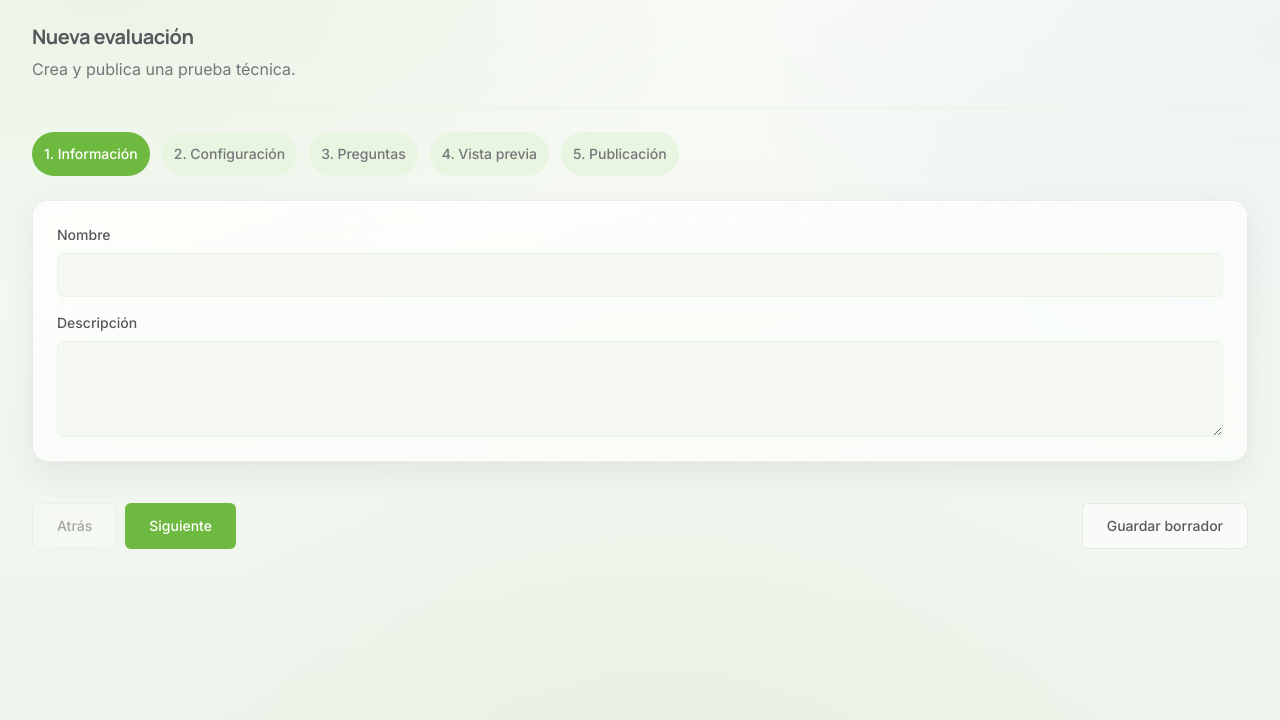
Scenario: PruebasEvaluationEditor UI › blocks next on empty info and saves a draft after filling required fields
The width and height of the screenshot is (1280, 720).
Check: the heading "Nueva evaluación" is shown, box [32,23,194,50]
Click the button "Siguiente".
click(181, 526)  # box [125,503,236,549]
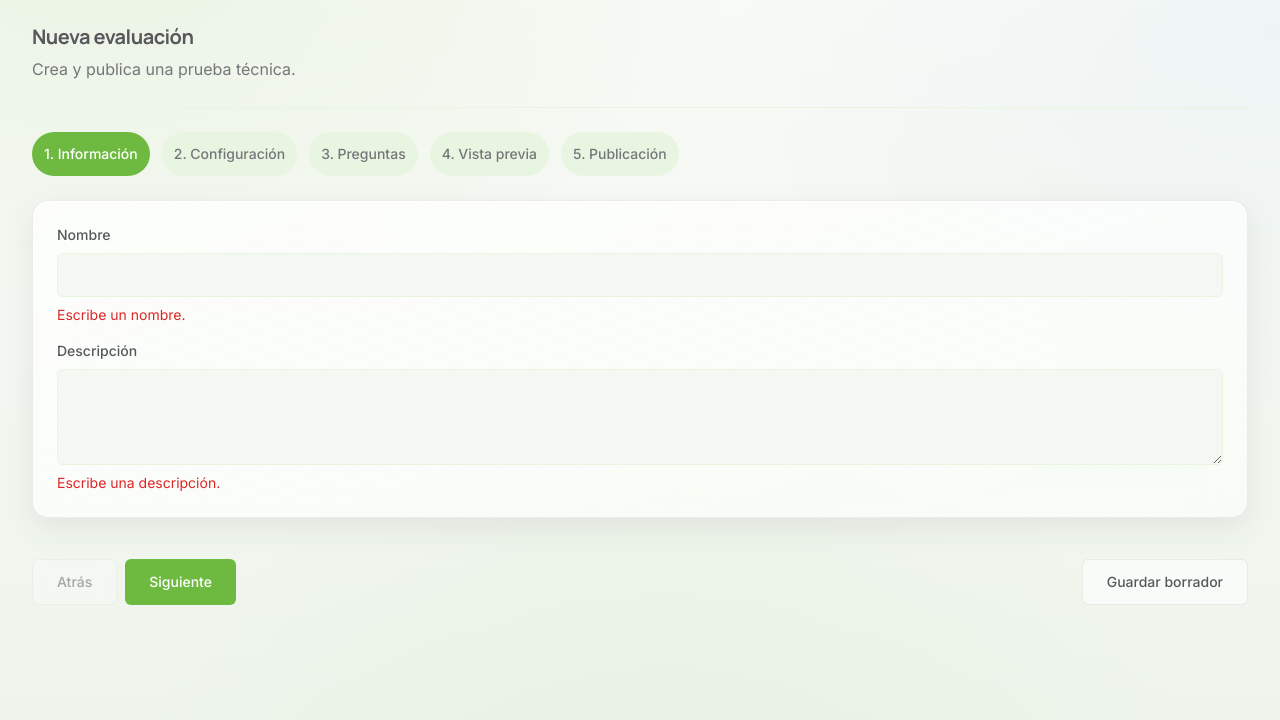
Check: the text "Escribe un nombre." is shown, box [57,306,186,323]
Type "Prueba técnica demo" into the field labelled "Nombre".
click(640, 275); type("Prueba técnica demo")  # box [57,253,1223,297]
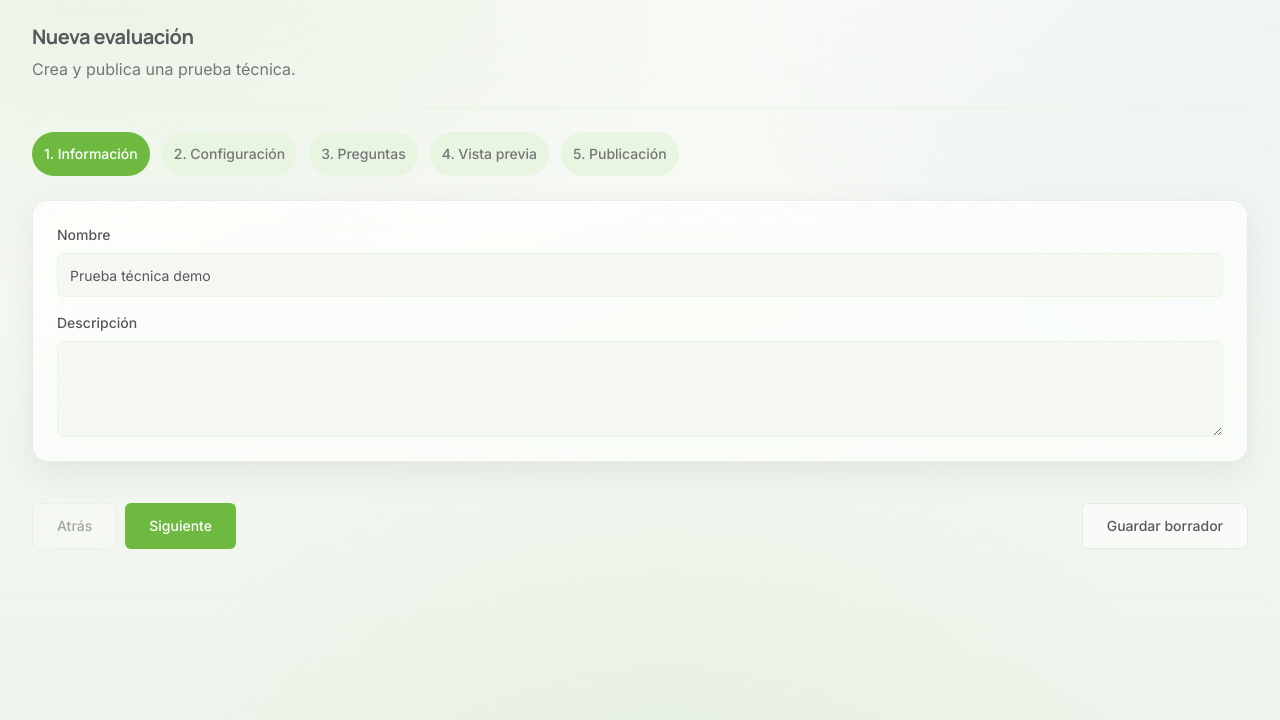
Type "Descripción de demostración" into the text box labelled "Descripción".
click(640, 389); type("Descripción de demostración")  # box [57,341,1223,437]
Click the button "Siguiente".
click(181, 526)  # box [125,503,236,549]
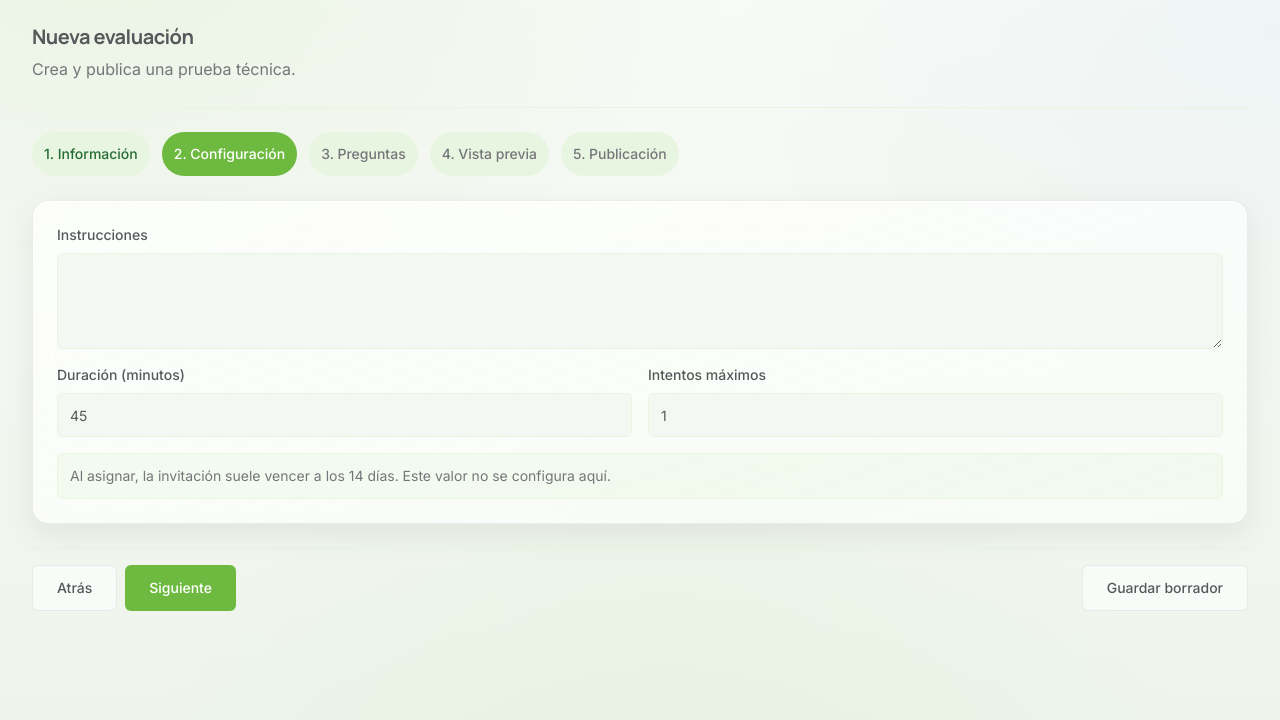
Check: the text box labelled "Instrucciones" is shown
Type "Lee con calma." into the text box labelled "Instrucciones".
click(640, 301); type("Lee con calma.")  # box [57,253,1223,349]
Click the button "Siguiente".
click(181, 588)  # box [125,565,236,611]
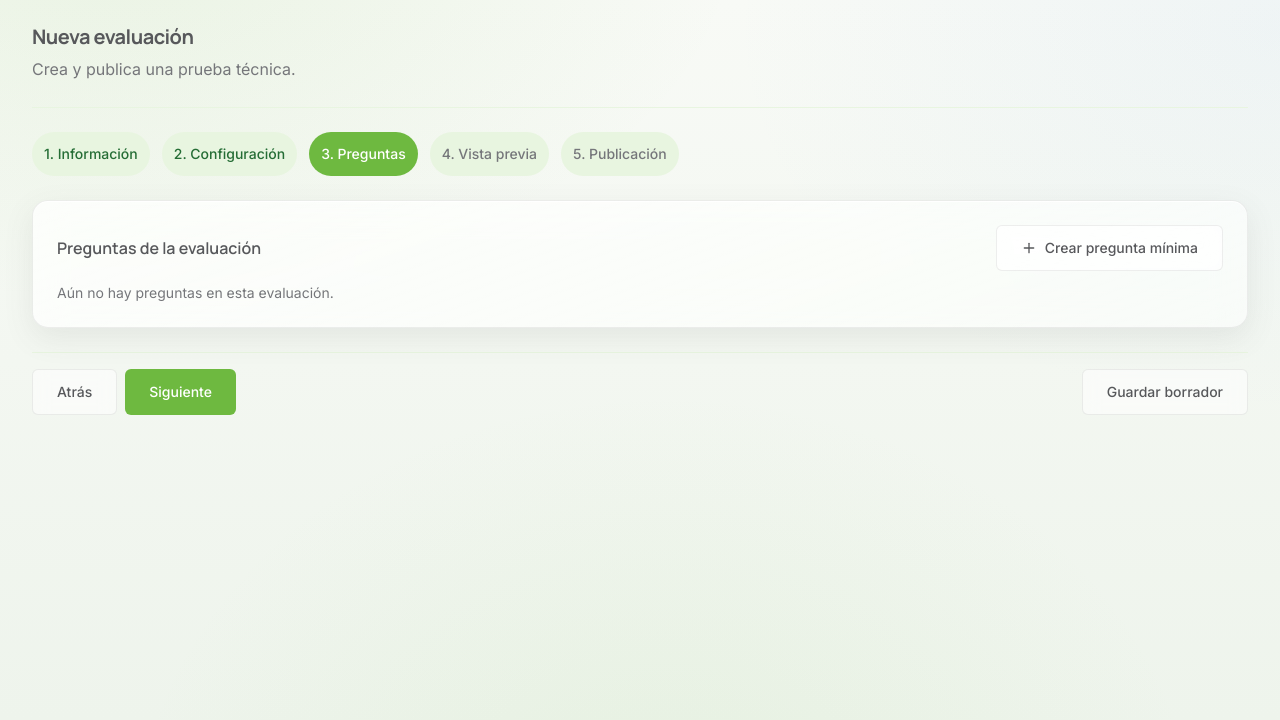
Check: the heading "Preguntas de la evaluación" is shown, box [57,236,261,260]
Click the button "Crear pregunta mínima".
click(1109, 248)  # box [996,225,1223,271]
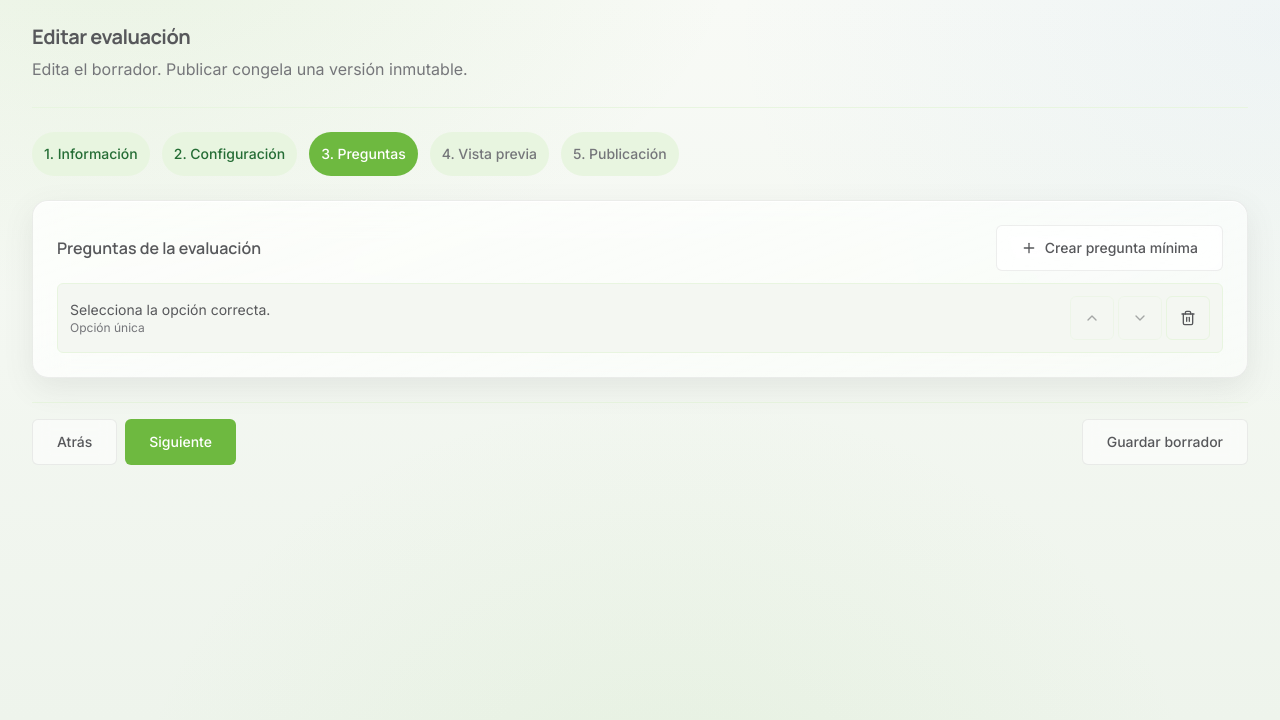
Click the button "Guardar borrador".
click(1165, 442)  # box [1082,419,1248,465]
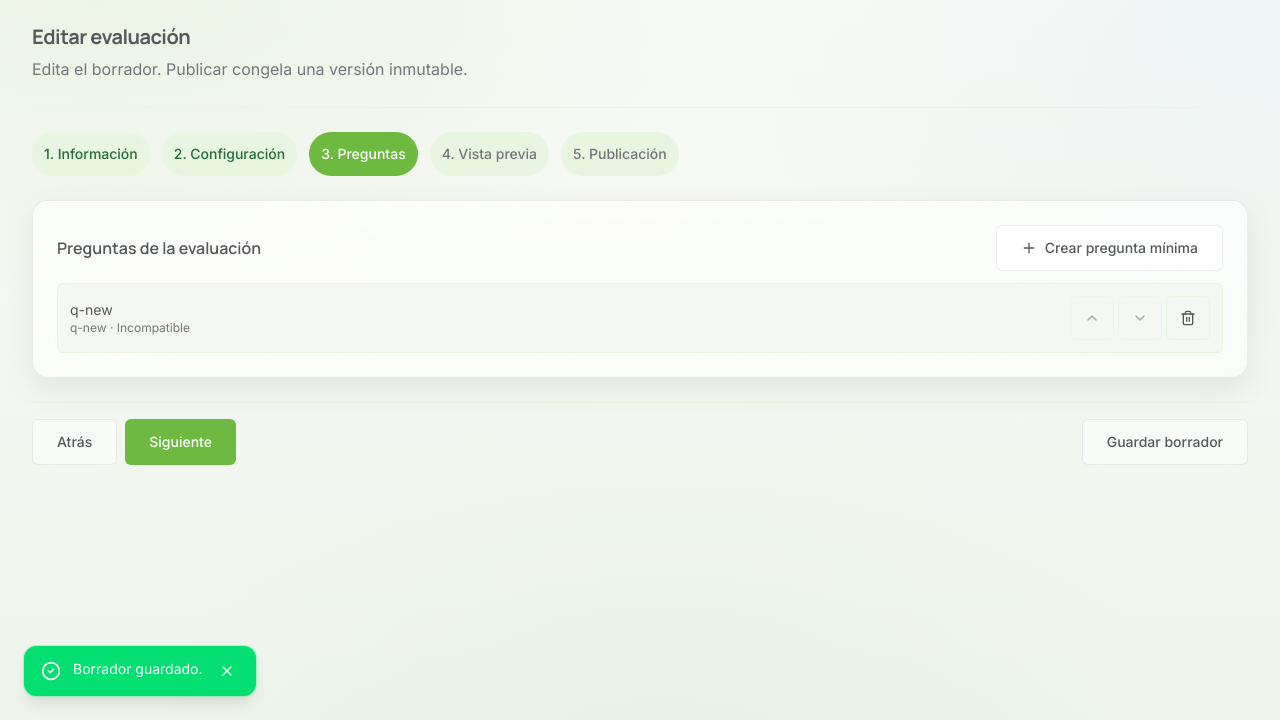
Check: the text "Borrador guardado." is shown, box [73,659,203,678]
